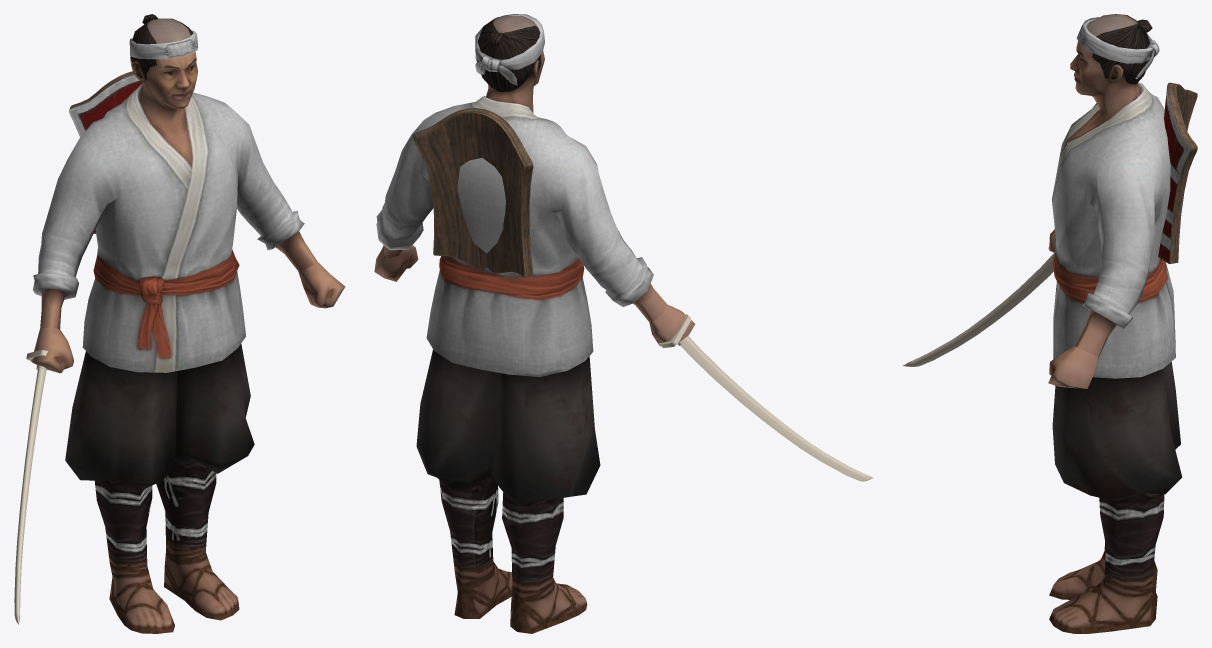
The model's file is 270-sakimori.glb.
3 views of the same model, side by side, from view 1: azimuth 30°, elevation 25°; view 2: azimuth 150°, elevation 25°; view 3: azimuth 270°, elevation 25° (orthographic). The views are drawn at different scales.
Size of the model in its own units: 1.51 by 2.07 by 0.9403.
4 materials, 3 textured.
